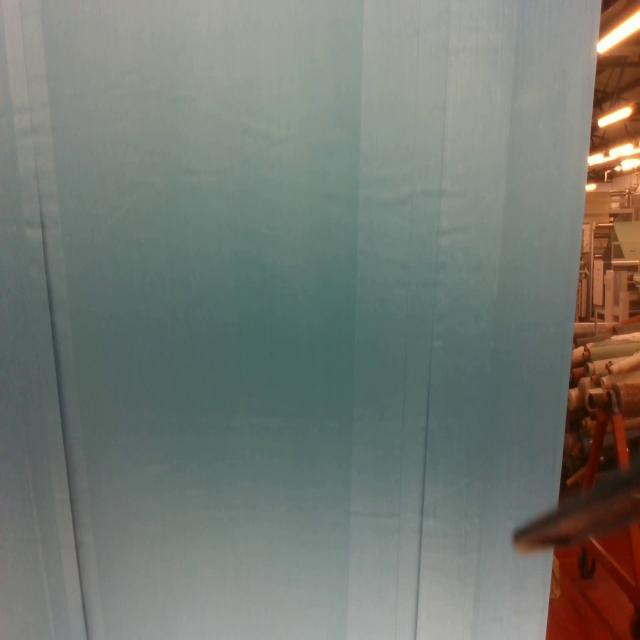crease: (18, 0, 91, 640), (391, 0, 455, 640)
